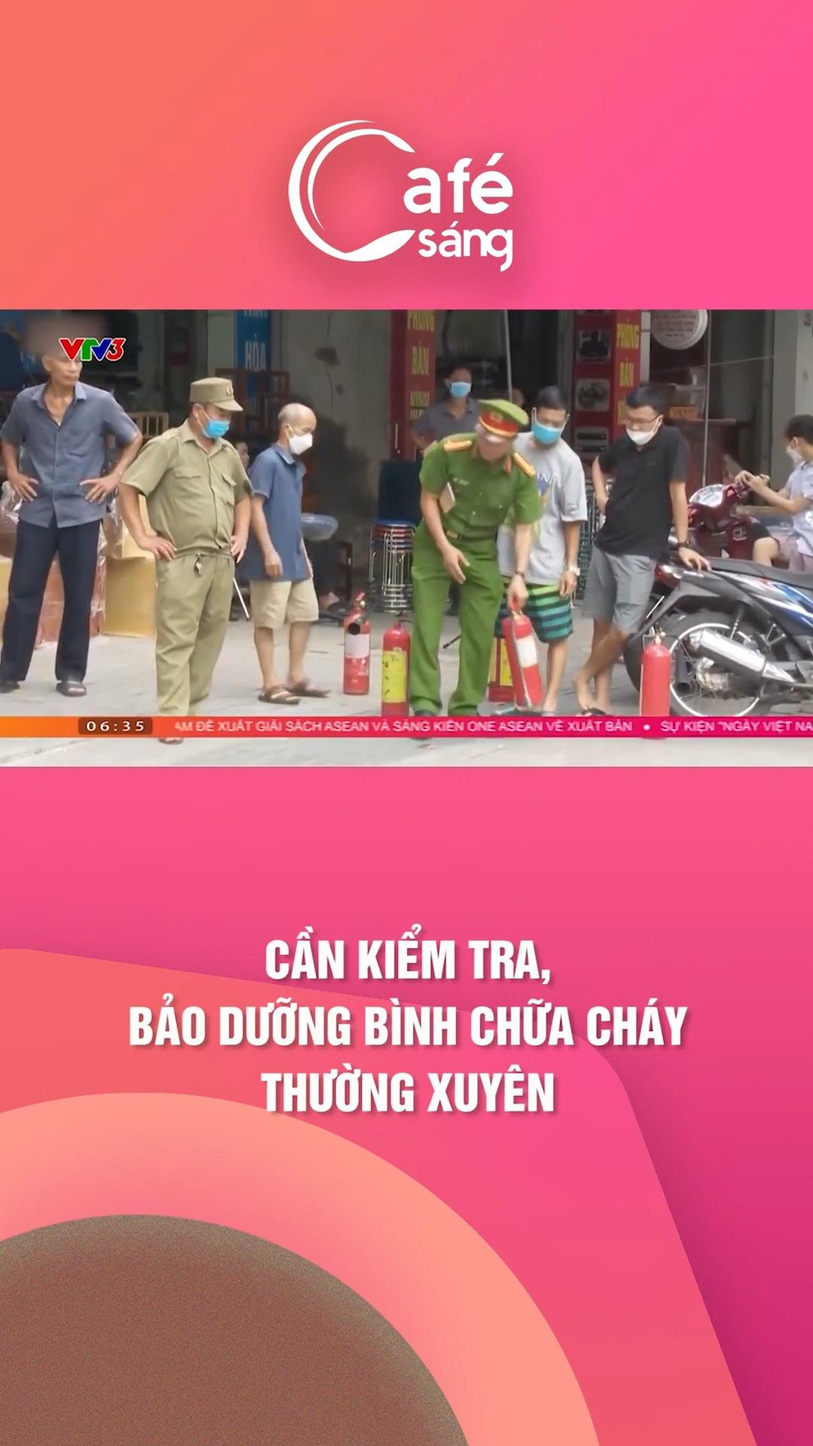FireExtinguisher: (491, 592, 562, 717), (627, 618, 686, 720), (371, 618, 426, 727), (336, 581, 374, 706)
